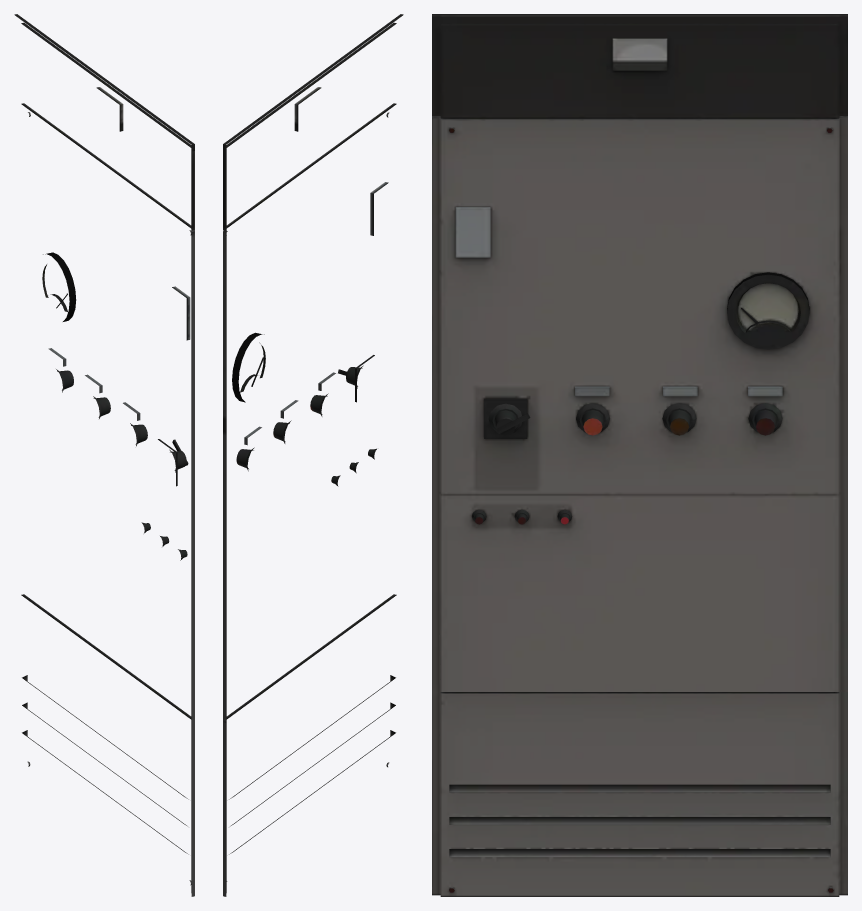
3 views of the same model, side by side, from view 1: azimuth 30°, elevation 25°; view 2: azimuth 150°, elevation 25°; view 3: azimuth 270°, elevation 25° (orthographic). The views are drawn at different scales.
Parts seen in each view (by area): view 1: body0_model0_lod0_mesh0; view 2: body0_model0_lod0_mesh0; view 3: body0_model0_lod0_mesh0.
Boxes of the visible parts, x1,y1,x2,y2 form: body0_model0_lod0_mesh0: (14,14,194,896); body0_model0_lod0_mesh0: (223,14,403,896); body0_model0_lod0_mesh0: (432,14,847,896).
Size of the model in its own units: 3.79 by 112 by 47.99.
Materials: 1 (1 with a texture image).
